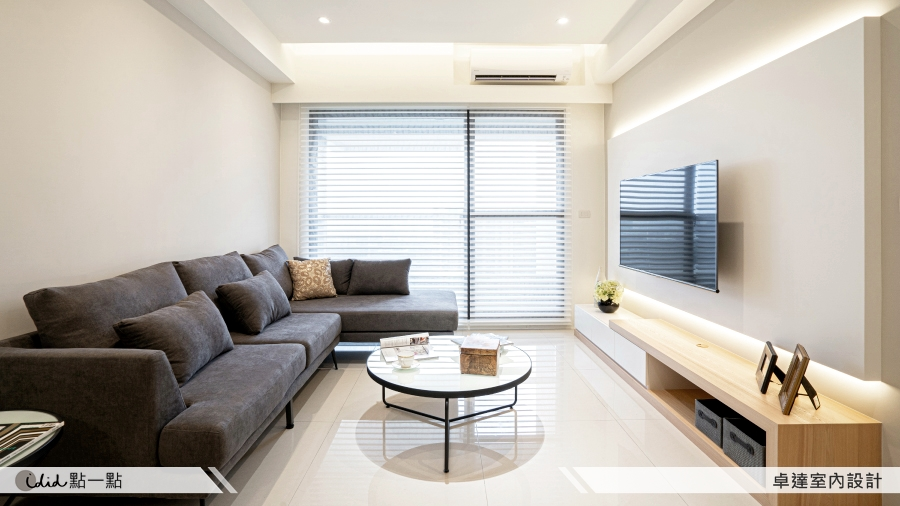sofa: (1, 247, 339, 506), (247, 245, 456, 360)
table: (362, 336, 531, 477)
tv: (618, 162, 726, 293)
